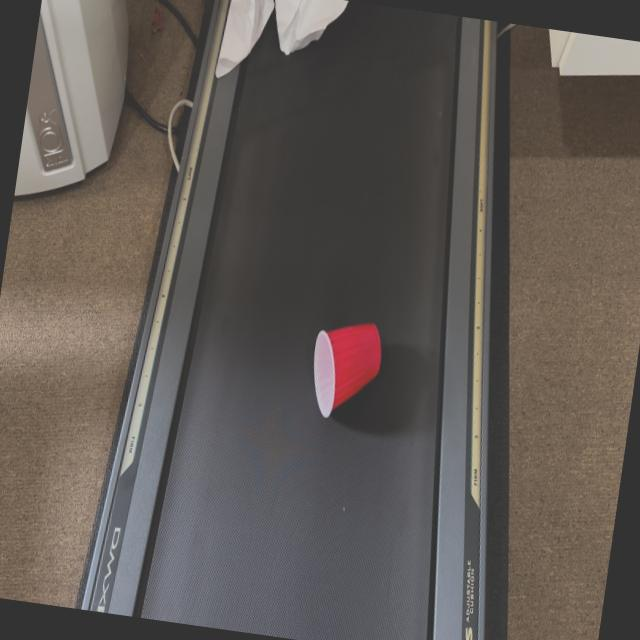Recycle: (211, 0, 352, 101), (302, 309, 388, 427)
